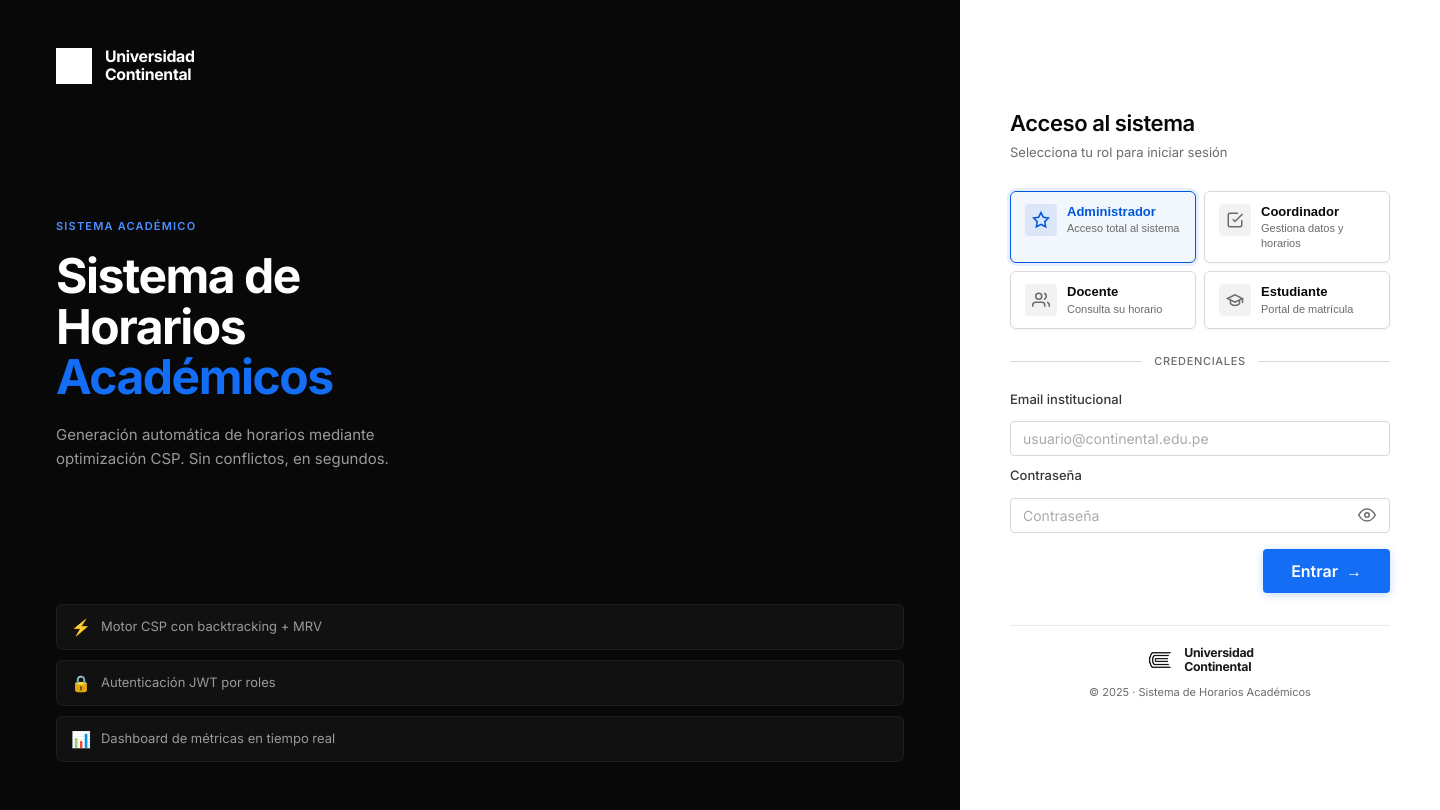
Test case: LoginPage › toggles password visibility and changes the input type
Click the button named "Mostrar contraseña" at (1367, 515), box [1354, 502, 1380, 528]
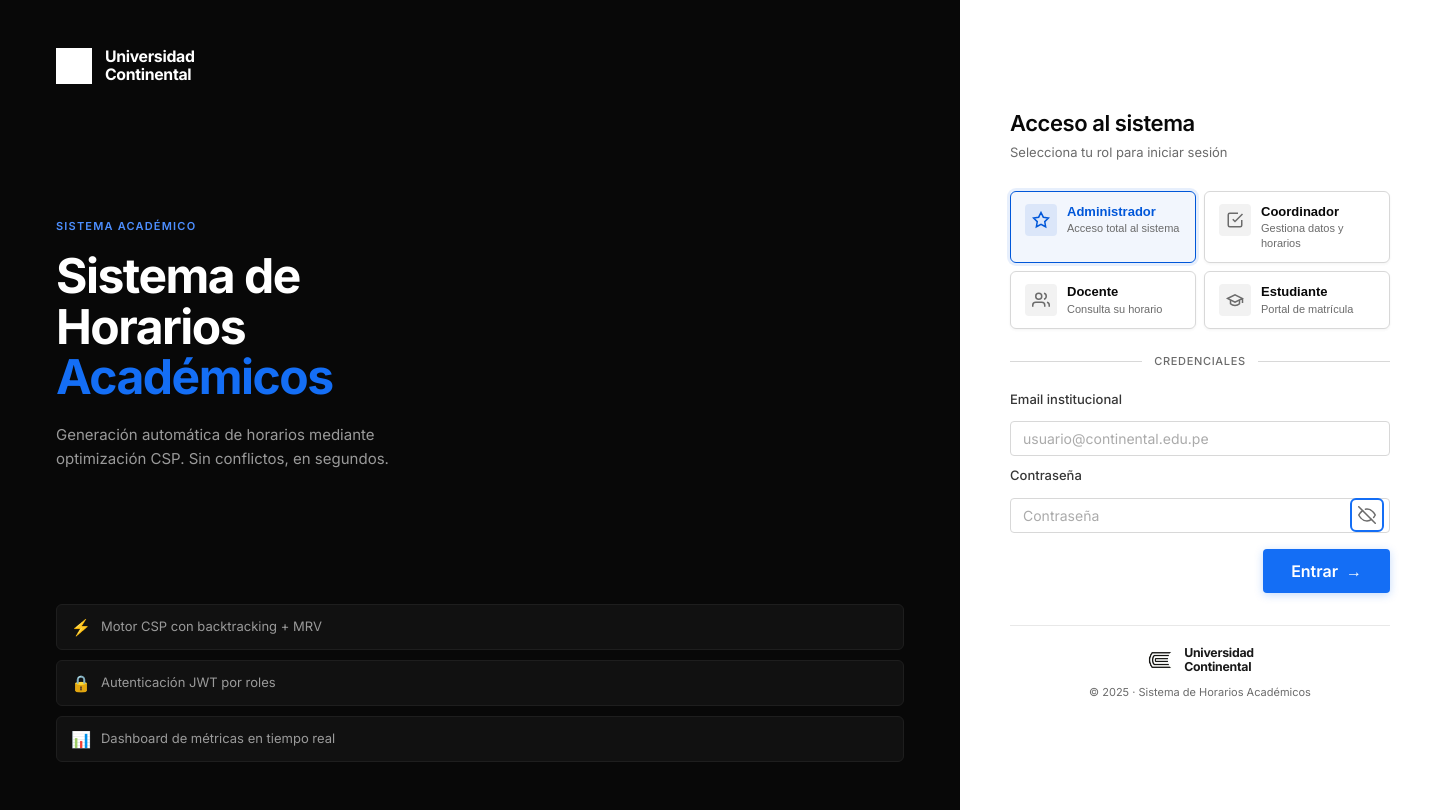
Check: the button named "Ocultar contraseña" is shown, box [1354, 502, 1380, 528]
